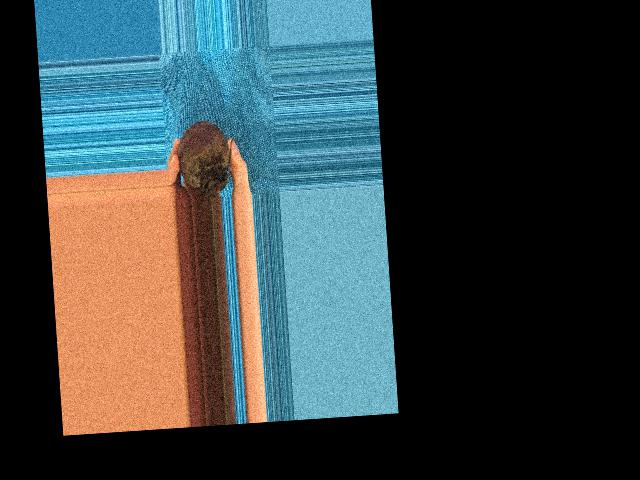beet: (176, 119, 238, 198)
